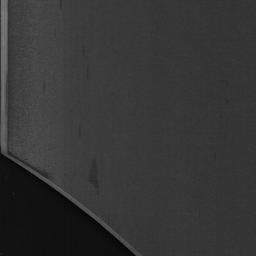Crescent gap: (0, 154, 133, 256)
